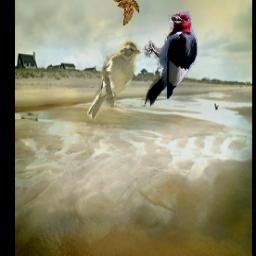Sparrow: (87, 40, 141, 120), (113, 0, 139, 27)
Woodpecker: (140, 7, 198, 110)
